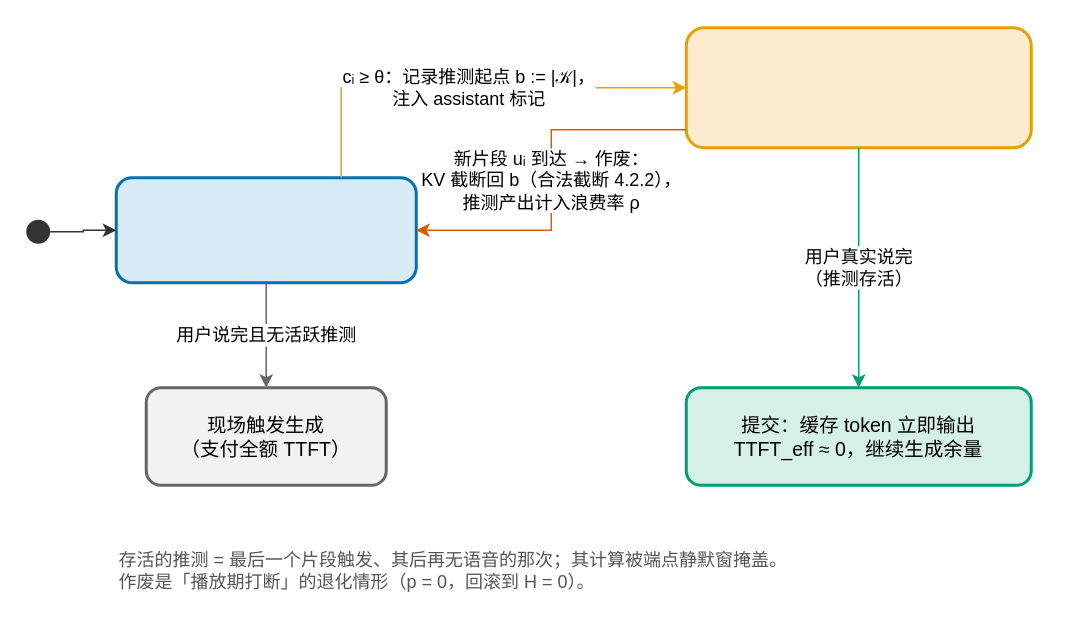
The diagram is 1071 pixels wide and 629 high, and some of its shapes have lost their labels. The shapes that lost their labels are listed below. From the top down, each one's box as (x1, y1, x2, y2) in pixels, then its label:
(684, 26, 1032, 148): 推测生成中 （已注入 assistant 标记， 预生成 ≤ B token 并缓存）
(114, 176, 417, 284): 监听 / 增量 prefill （user 角色保持打开）
